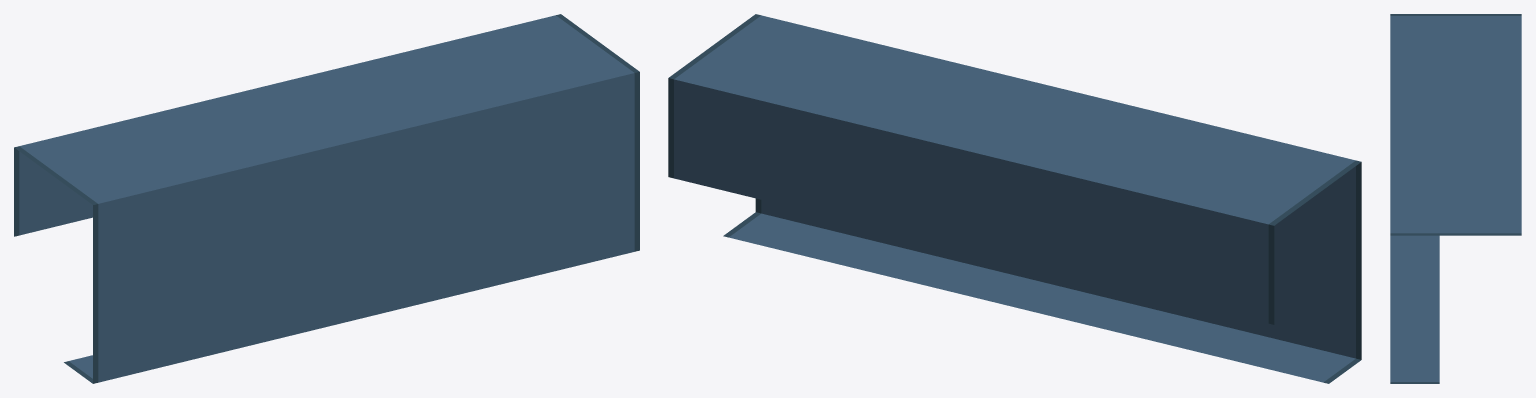
File: M_RoofTrim320Marine20-1.FBX
3 renders of one model, left to right at view 1: azimuth 30°, elevation 25°; view 2: azimuth 150°, elevation 25°; view 3: azimuth 270°, elevation 25°, orthographic. The views are drawn at different scales.
Parts seen in each view (by area): view 1: M_RoofTrim320Marine20-1; view 2: M_RoofTrim320Marine20-1; view 3: M_RoofTrim320Marine20-1.
Part boxes in pixels (bbox=[...]): M_RoofTrim320Marine20-1: bbox=[14, 14, 639, 383]; M_RoofTrim320Marine20-1: bbox=[668, 14, 1361, 383]; M_RoofTrim320Marine20-1: bbox=[1390, 14, 1521, 383].
Size of the model in its own units: 3.2 by 1 by 0.8.
